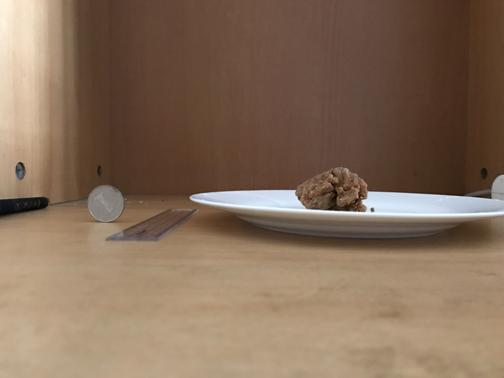coin: (85, 184, 125, 222)
fired_dough_twist: (295, 167, 368, 210)
